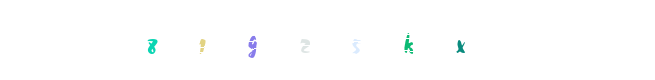1: (162, 0, 242, 80)
2: (266, 0, 346, 80)
5: (287, 0, 367, 80)
8: (112, 0, 192, 80)
G: (212, 0, 292, 80)
K: (299, 0, 379, 80)
X: (390, 0, 470, 80)
